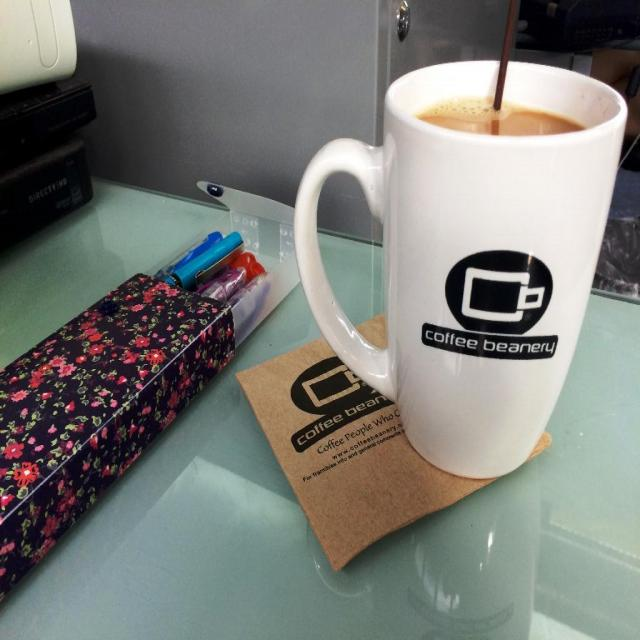Coffee: (411, 90, 585, 140)
